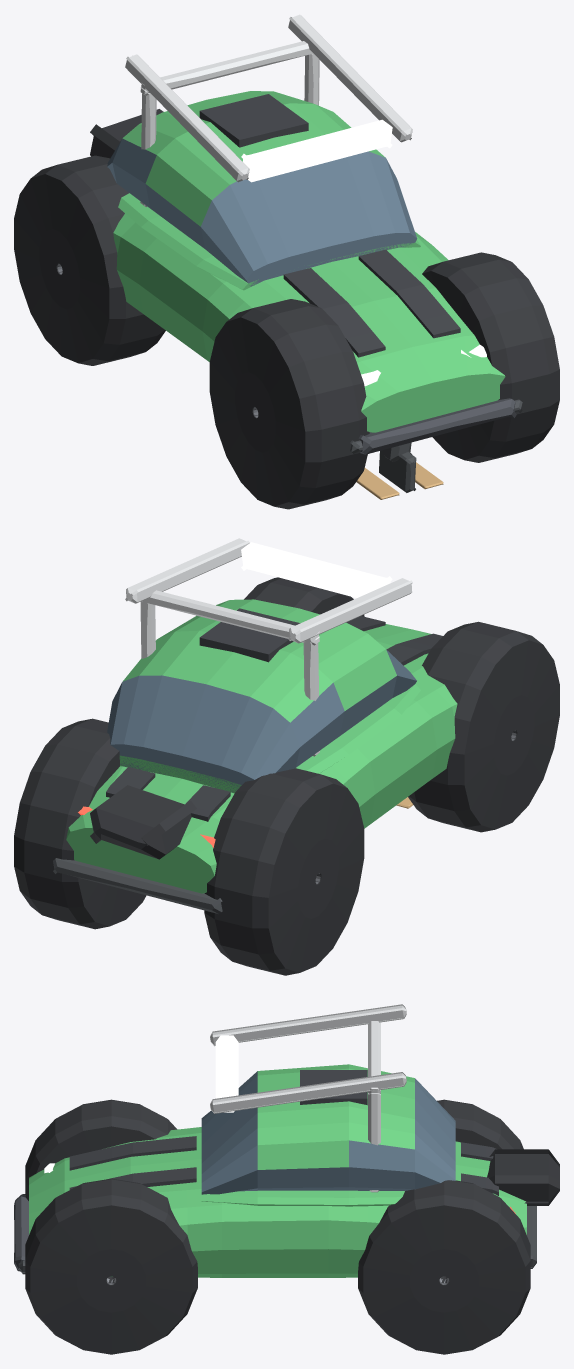
Rendered from toy-car-offroad.glb.
3 views of the same model, one above another, from view 1: azimuth 30°, elevation 25°; view 2: azimuth 150°, elevation 25°; view 3: azimuth 270°, elevation 25° (orthographic). The views are drawn at different scales.
Parts seen in each view (by area): view 1: toy-car-offroad-canopy, toy-car-offroad-body, wheel-front-left, wheel-rear-left, wheel-front-right, toy-car-offroad-light-bar, toy-car-offroad-glyph, toy-car-offroad-skid, toy-car-offroad-stripe-hood-right, toy-car-offroad-cage-brace-left, toy-car-offroad-beltline, toy-car-offroad-cage-brace-right (+7 smaller); view 2: toy-car-offroad-canopy, wheel-rear-left, wheel-front-left, toy-car-offroad-body, wheel-rear-right, toy-car-offroad-spare, toy-car-offroad-beltline, toy-car-offroad-light-bar, toy-car-offroad-diffuser, toy-car-offroad-cage-brace-left, toy-car-offroad-glyph, toy-car-offroad-cage-hoop (+7 smaller); view 3: wheel-front-right, wheel-rear-right, toy-car-offroad-canopy, toy-car-offroad-body, wheel-front-left, toy-car-offroad-spare, toy-car-offroad-cage-brace-right, toy-car-offroad-beltline, toy-car-offroad-cage-brace-left, wheel-rear-left, toy-car-offroad-stripe-hood-left, toy-car-offroad-light-bar (+7 smaller).
Boxes of the visible parts, x1,y1,x2,y2 form: toy-car-offroad-canopy: (107, 91, 417, 286); toy-car-offroad-body: (113, 213, 505, 432); wheel-front-left: (209, 299, 369, 509); wheel-rear-left: (14, 155, 165, 365); wheel-front-right: (422, 252, 559, 462); toy-car-offroad-light-bar: (241, 119, 392, 182); toy-car-offroad-glyph: (199, 94, 308, 147); toy-car-offroad-skid: (358, 398, 516, 454); toy-car-offroad-stripe-hood-right: (358, 249, 460, 338); toy-car-offroad-cage-brace-left: (125, 54, 249, 182); toy-car-offroad-beltline: (118, 193, 420, 290); toy-car-offroad-cage-brace-right: (288, 14, 412, 142); toy-car-offroad-canopy: (107, 599, 416, 791); wheel-rear-left: (204, 768, 364, 975); wheel-front-left: (408, 621, 559, 832); toy-car-offroad-body: (66, 624, 457, 893); wheel-rear-right: (14, 718, 146, 929); toy-car-offroad-spare: (90, 785, 196, 859); toy-car-offroad-beltline: (119, 684, 420, 793); toy-car-offroad-light-bar: (241, 542, 392, 597); toy-car-offroad-diffuser: (53, 858, 222, 913); toy-car-offroad-cage-brace-left: (288, 578, 412, 643); toy-car-offroad-glyph: (199, 608, 300, 662); toy-car-offroad-cage-hoop: (142, 590, 319, 645); wheel-front-right: (25, 1178, 197, 1354); wheel-rear-right: (358, 1180, 530, 1354); toy-car-offroad-canopy: (201, 1064, 455, 1194); toy-car-offroad-body: (29, 1127, 526, 1277); wheel-front-left: (25, 1099, 177, 1200); toy-car-offroad-spare: (486, 1149, 559, 1205); toy-car-offroad-cage-brace-right: (210, 1072, 406, 1113); toy-car-offroad-beltline: (201, 1190, 404, 1206); toy-car-offroad-cage-brace-left: (210, 1004, 406, 1046); wheel-rear-left: (437, 1099, 523, 1149); toy-car-offroad-stripe-hood-left: (69, 1136, 196, 1170); toy-car-offroad-light-bar: (215, 1035, 238, 1112).
Bounding box in the file's own units: 1 × 1.16 × 2.15.
